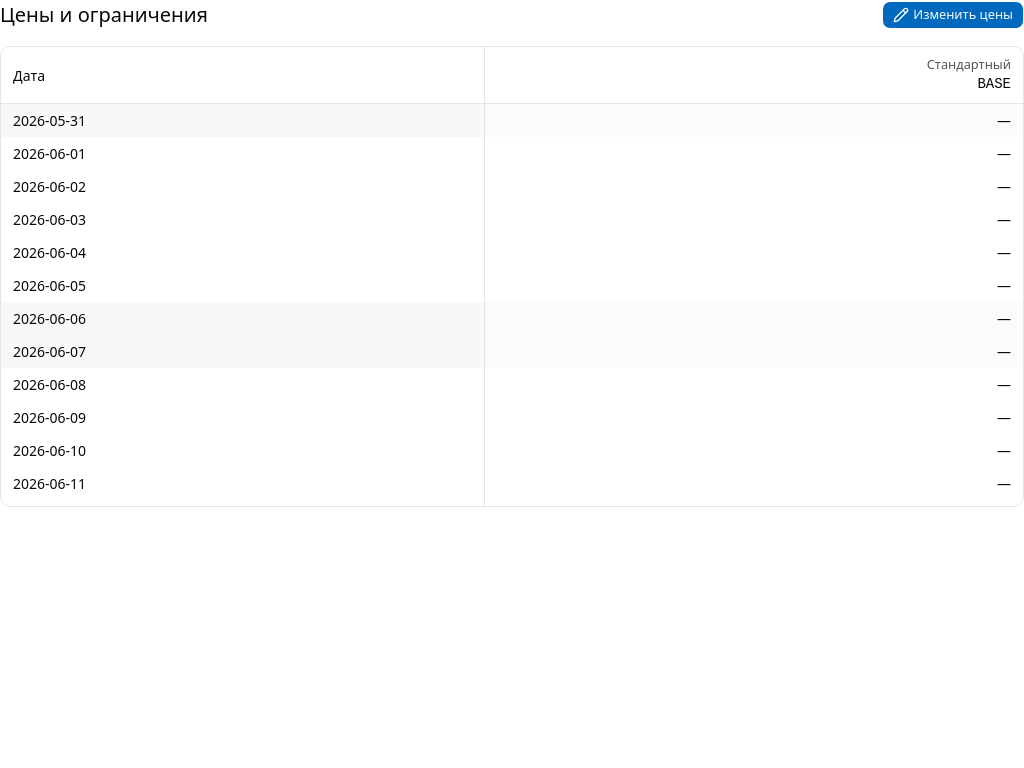
Test case: InventoryPricesPage — render › [P3] click «Изменить цены» → BulkEditPricesSheet opens
Click the button "Изменить цены" at [953, 15], box x1=882 y1=1 x2=1023 y2=29
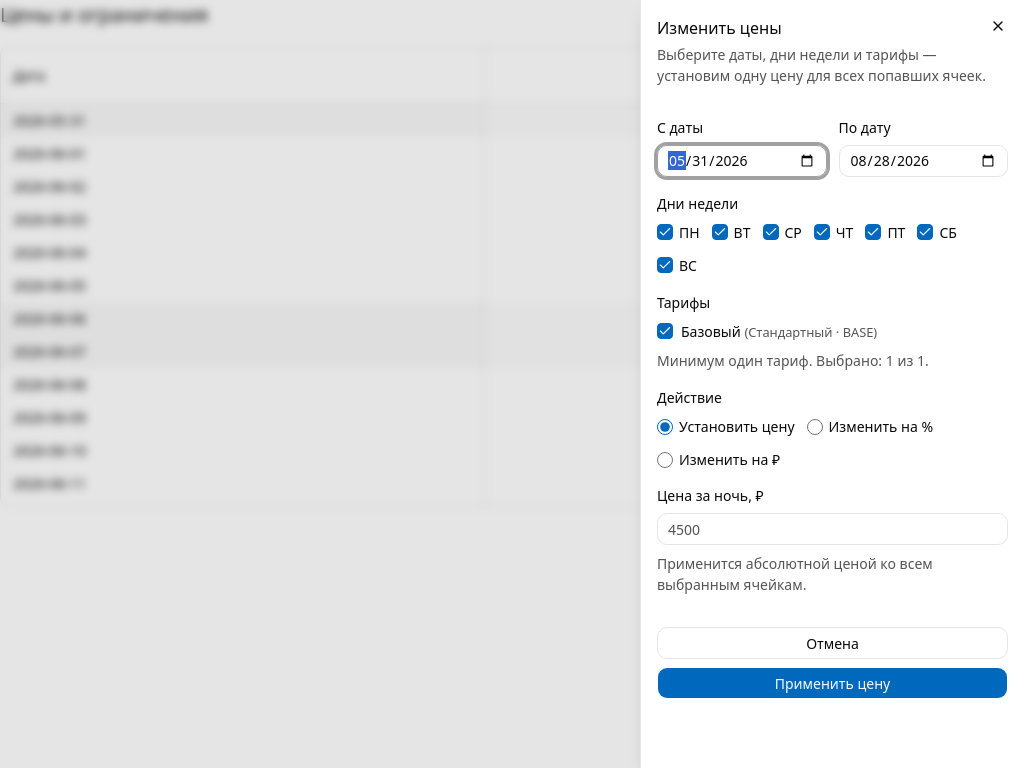
Expected: the text "Дни недели" is shown, x1=657 y1=193 x2=738 y2=214
Expected: the button "Применить цену" is shown, x1=657 y1=667 x2=1008 y2=699
